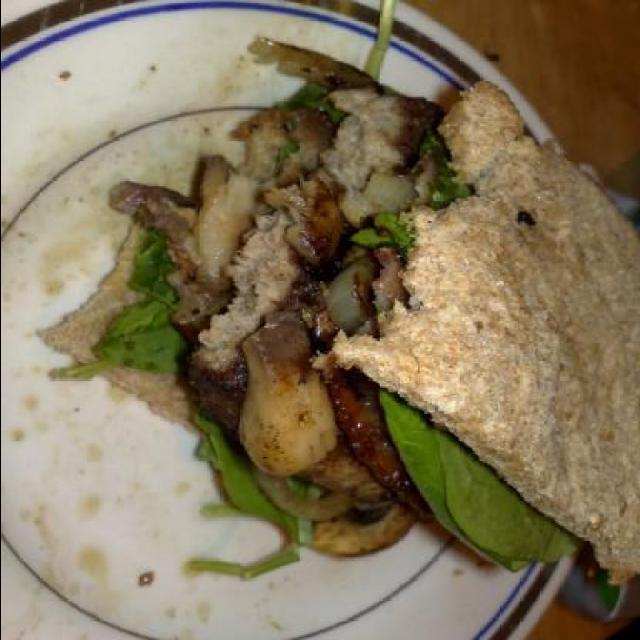Sandwich: (38, 71, 640, 588)
